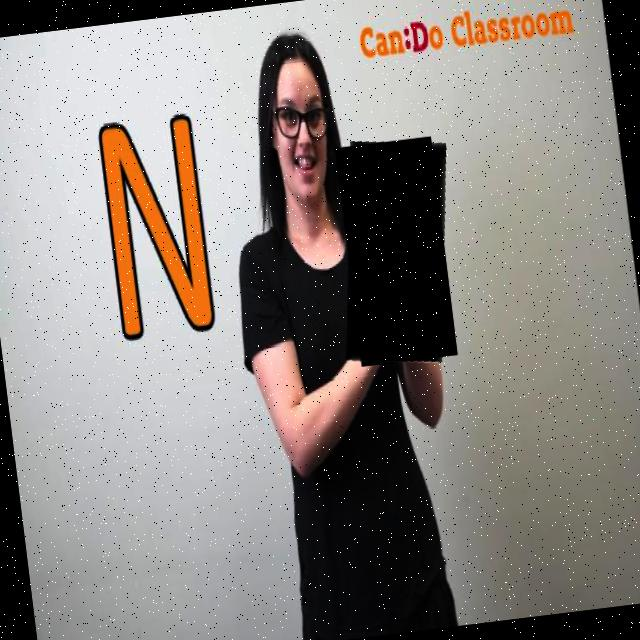N: (329, 135, 466, 372)
